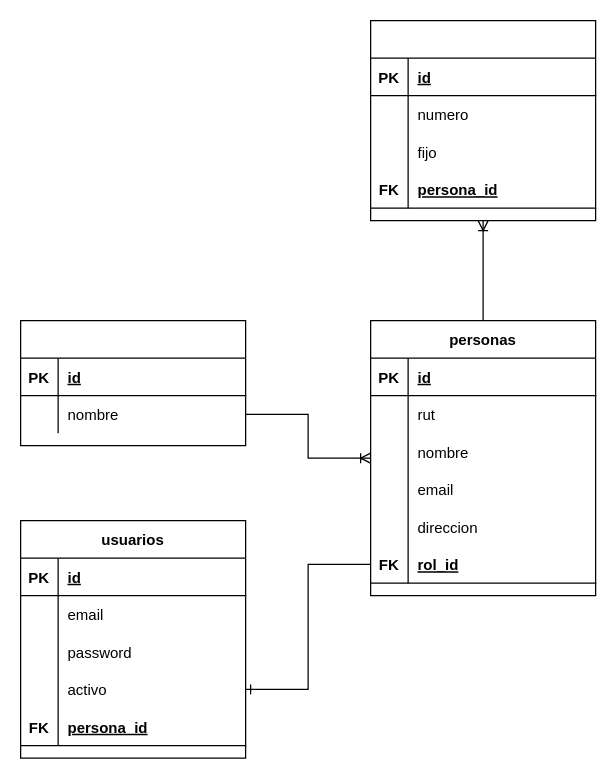
This 616x779 diagram has some shape labels left out. Here are the shapes that lost their labels. From the top down, the box of each, then its label:
(369, 19, 596, 221): telefonos
(19, 319, 246, 446): roles
